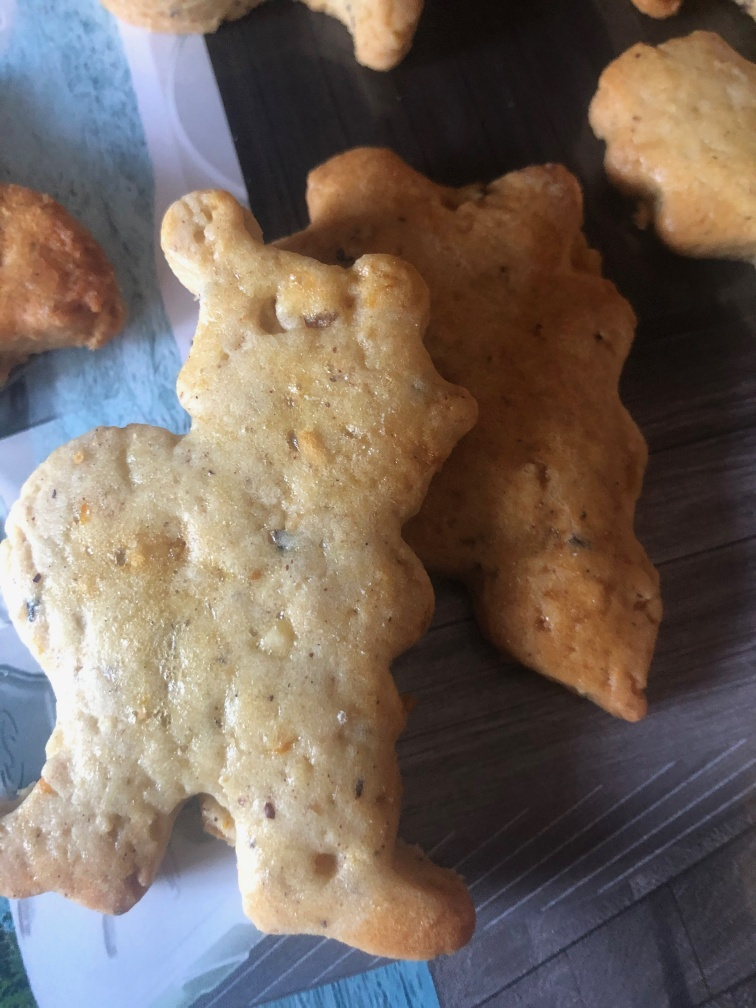christmas tree: (276, 147, 673, 732)
santa claus: (1, 185, 474, 960)
